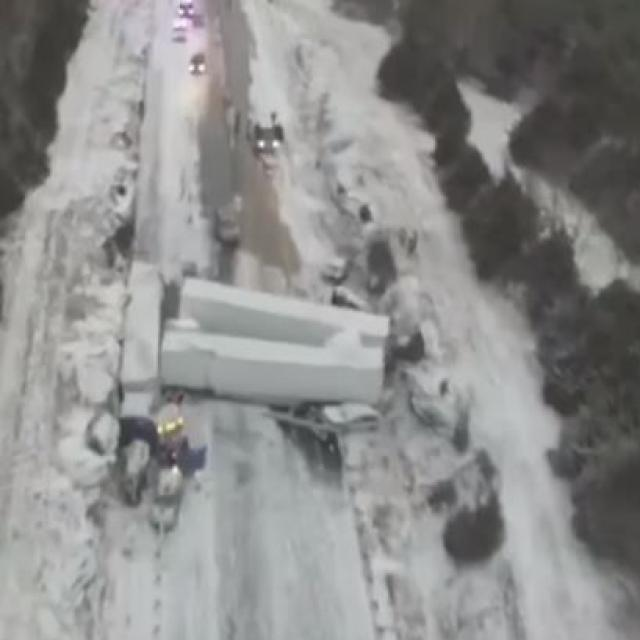traffic_incident: (103, 238, 394, 436)
